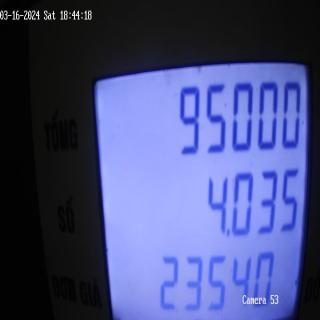screen: (86, 43, 316, 320)
